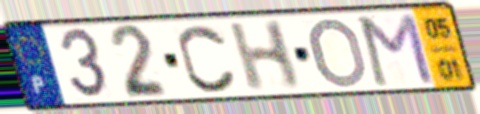2: (108, 22, 172, 103)
3: (55, 25, 111, 104)
C: (176, 22, 240, 95)
H: (225, 17, 303, 94)
M: (356, 11, 438, 89)
O: (307, 16, 371, 90)
